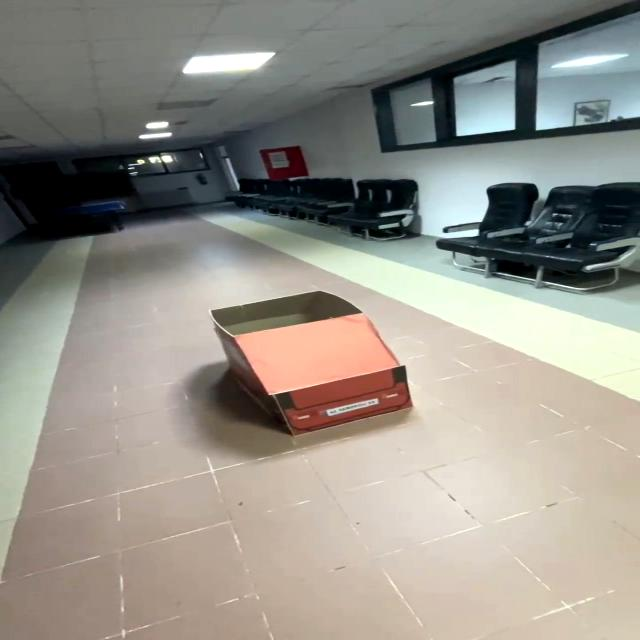red_car: (169, 278, 440, 452)
